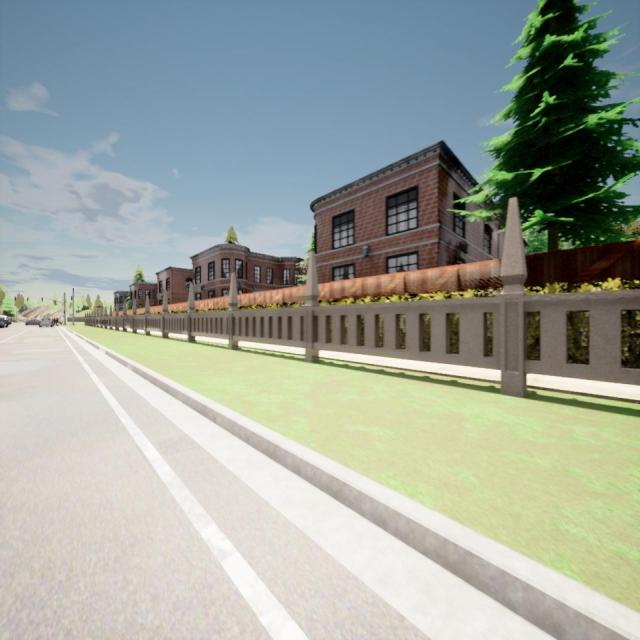Vehicle: (40, 316, 51, 328), (0, 314, 11, 324), (51, 317, 62, 327), (25, 319, 39, 326), (0, 320, 8, 328)
traffic_light: (70, 296, 72, 301), (14, 296, 16, 300), (27, 296, 29, 300), (41, 298, 43, 301), (64, 310, 65, 314)
